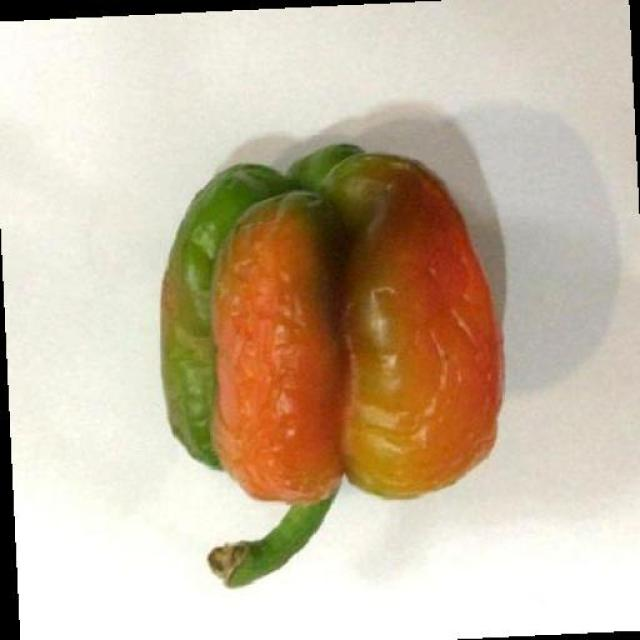Stale_Capsicum: (186, 143, 488, 548)
